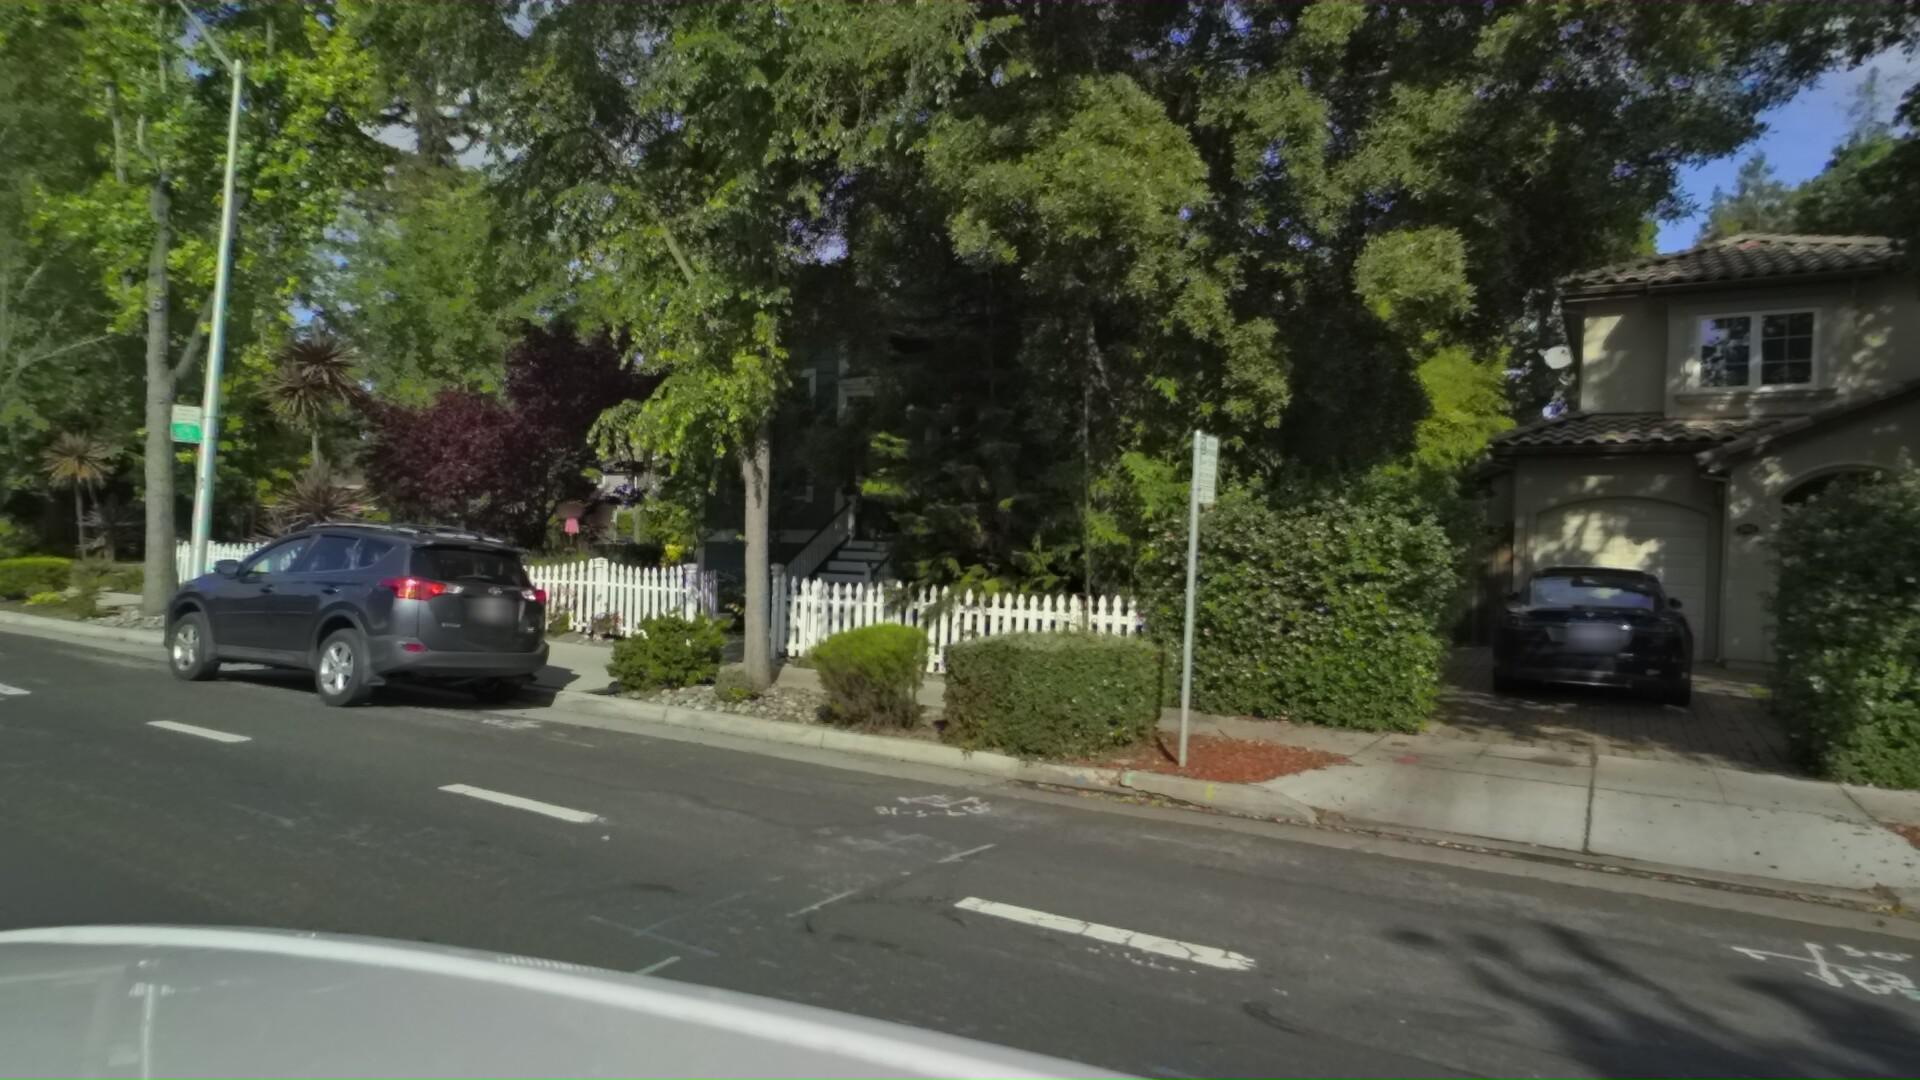car: (119, 517, 549, 732), (1437, 560, 1656, 716), (545, 531, 629, 562)
